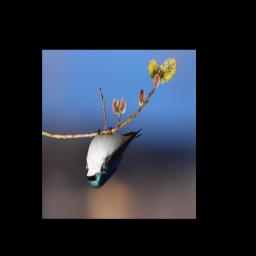Swallow: (83, 128, 143, 189)
